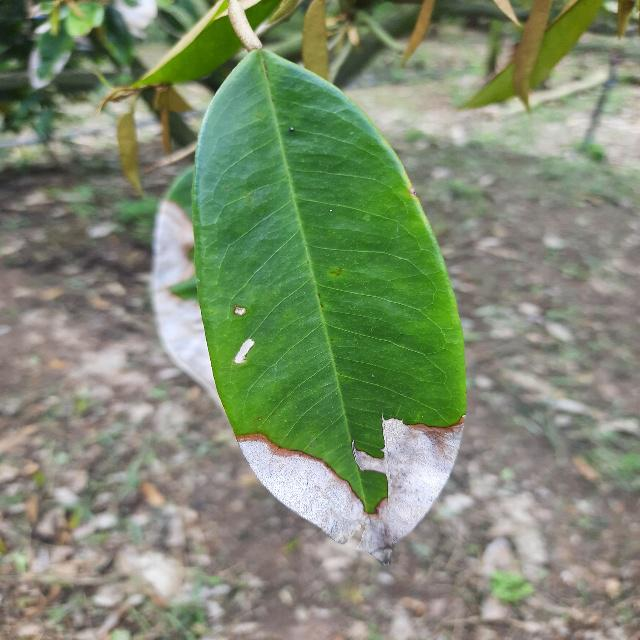Leaf Blight: (149, 41, 471, 571)
